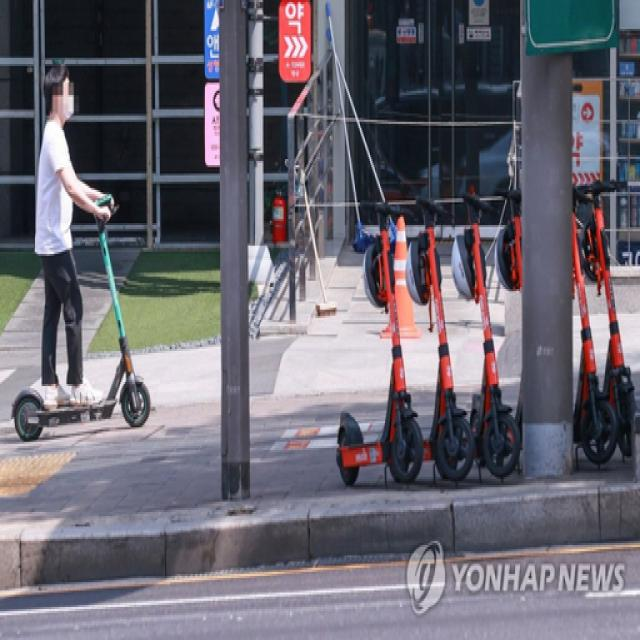non-helmet: (12, 55, 154, 452)
